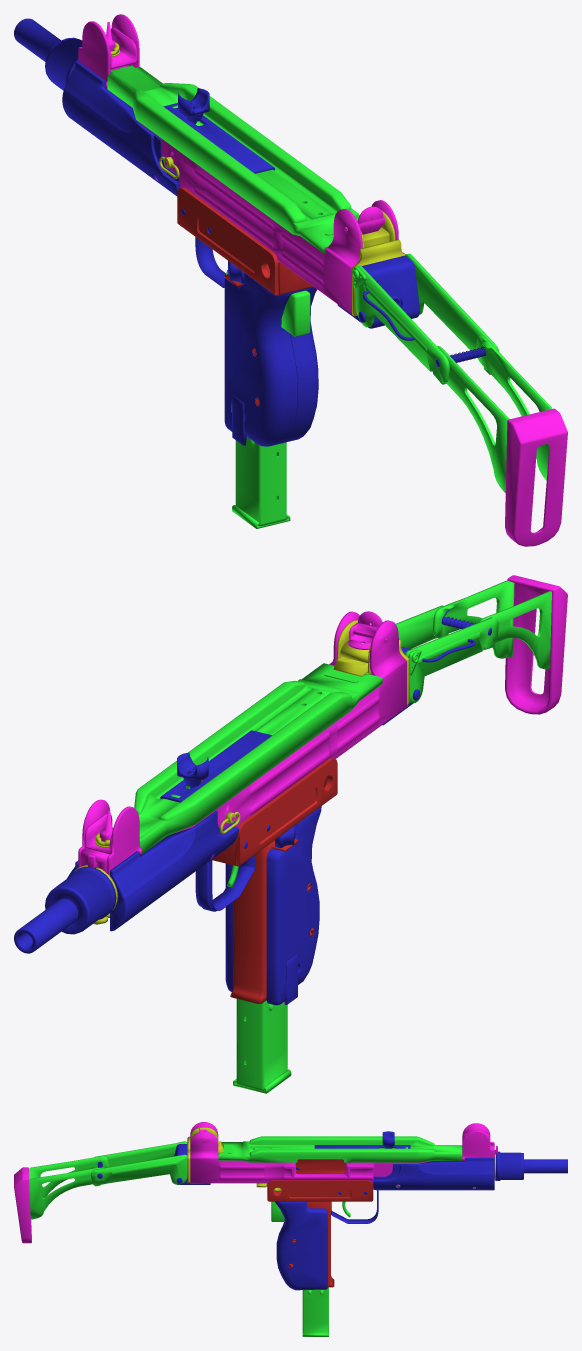
The model's file is uzi.fbx.
3 renders of one model, top to bottom at view 1: azimuth 30°, elevation 25°; view 2: azimuth 150°, elevation 25°; view 3: azimuth 270°, elevation 25°, orthographic. The views are drawn at different scales.
Parts seen in each view (by area): view 1: 4, 6, 2, 1, 3; view 2: 4, 6, 2, 1, 3; view 3: 4, 6, 2, 1, 3.
Part boxes in pixels (left/top/right/bottom): 4: left=107, top=65, right=551, bottom=528; 6: left=14, top=18, right=486, bottom=446; 2: left=78, top=14, right=567, bottom=546; 1: left=177, top=187, right=312, bottom=406; 3: left=111, top=42, right=405, bottom=316; 4: left=134, top=580, right=551, bottom=1093; 6: left=14, top=610, right=491, bottom=1005; 2: left=78, top=575, right=567, bottom=877; 1: left=201, top=673, right=372, bottom=1003; 3: left=74, top=620, right=409, bottom=924; 4: left=29, top=1136, right=475, bottom=1336; 6: left=97, top=1131, right=567, bottom=1290; 2: left=14, top=1122, right=497, bottom=1243; 1: left=267, top=1159, right=373, bottom=1287; 3: left=187, top=1127, right=496, bottom=1191.
Size of the model in its own units: 22.95 by 122 by 295.
